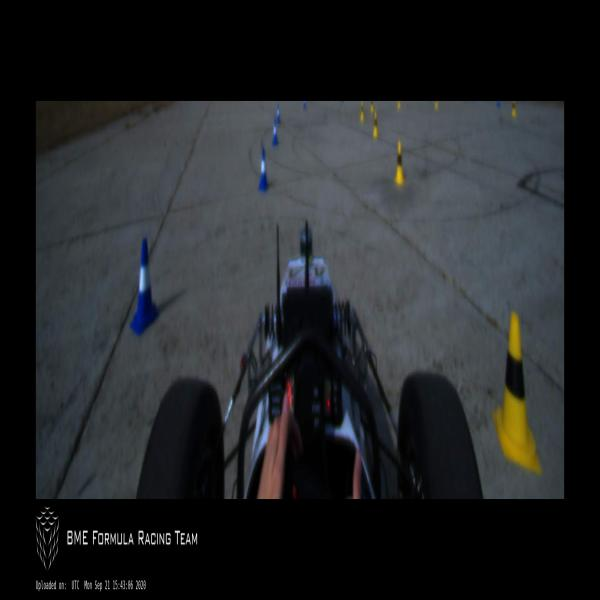blue_cone: (130, 238, 160, 336), (258, 149, 268, 191), (272, 119, 278, 146), (276, 105, 280, 124), (302, 102, 307, 110)
yellow_cone: (492, 312, 542, 476), (393, 140, 405, 186), (373, 111, 379, 140), (511, 101, 516, 118), (360, 101, 364, 121), (370, 102, 374, 111), (397, 101, 401, 110)
